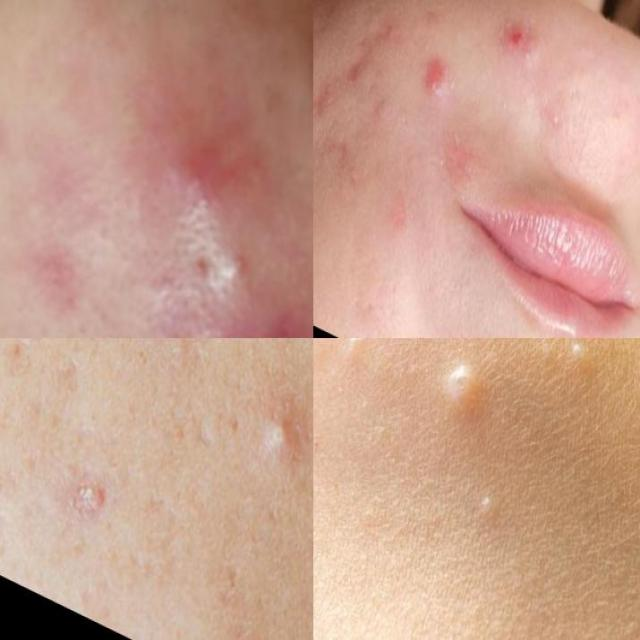8: (415, 37, 470, 118)
9: (256, 394, 313, 464), (219, 228, 268, 289)
blackheads: (333, 0, 405, 105)
pustules: (155, 81, 259, 226), (411, 338, 520, 444), (194, 298, 314, 338)
